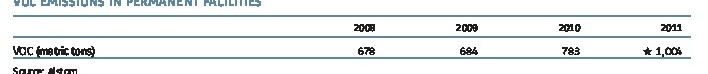table: (0, 0, 708, 74)
